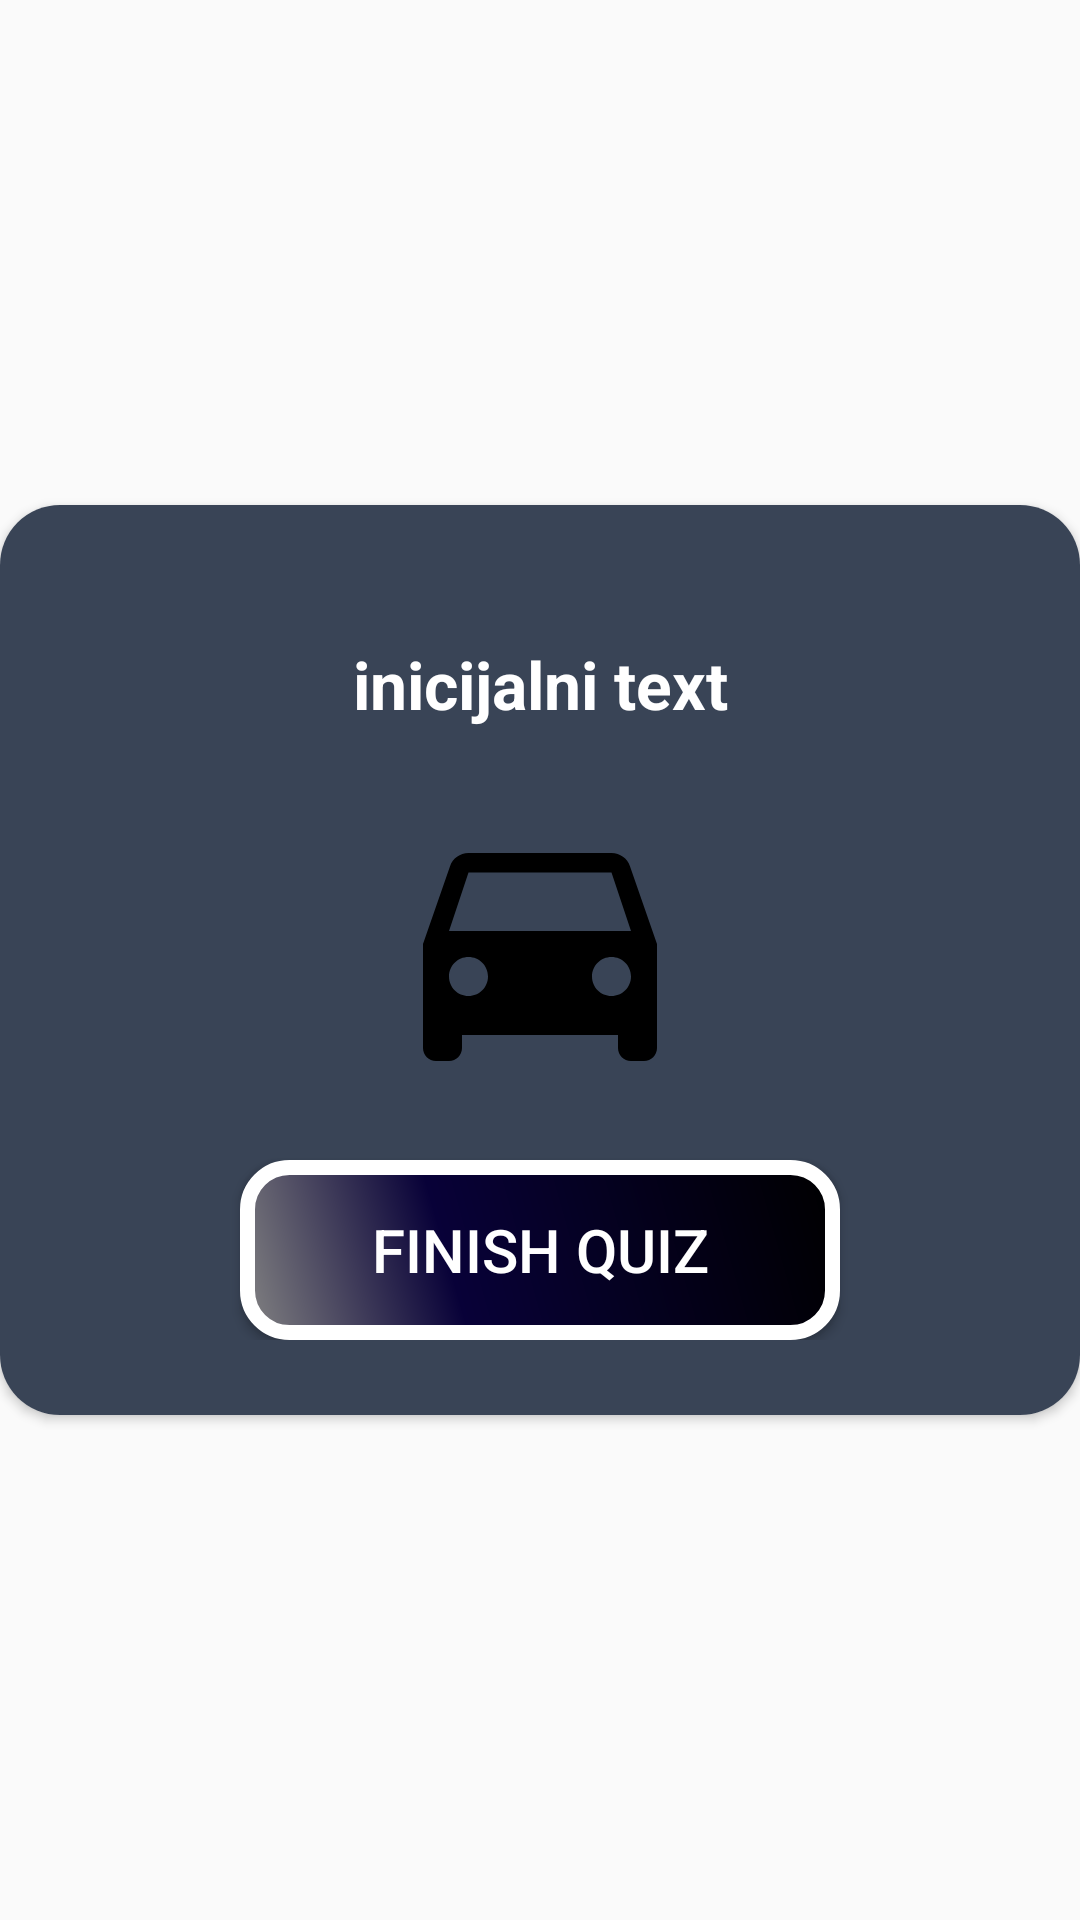

Icon bounding boxes for this 1080w x 1920h phone screenshot, format bbox=[x1, y1, x2, y2]:
directions car: bbox=[423, 853, 657, 1061]
